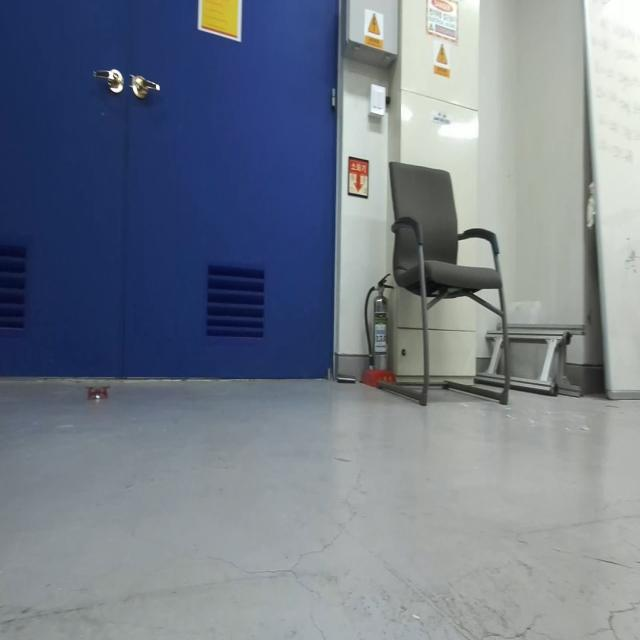crazyflie: (84, 380, 111, 405)
